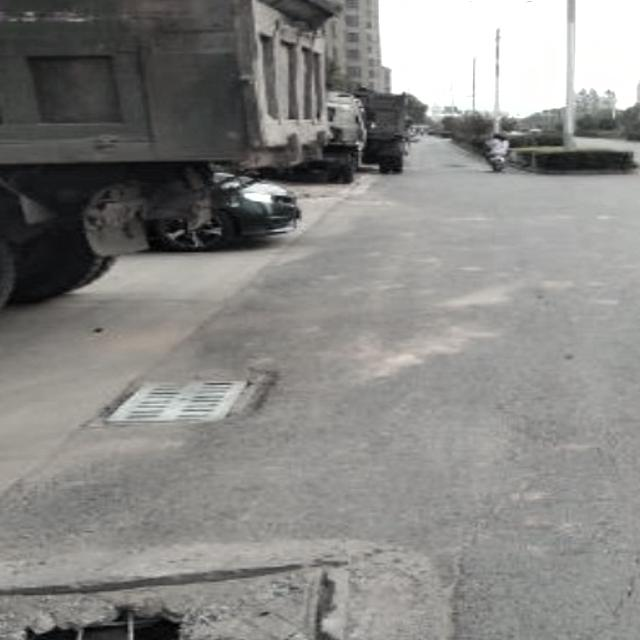broke: (0, 540, 355, 640)
